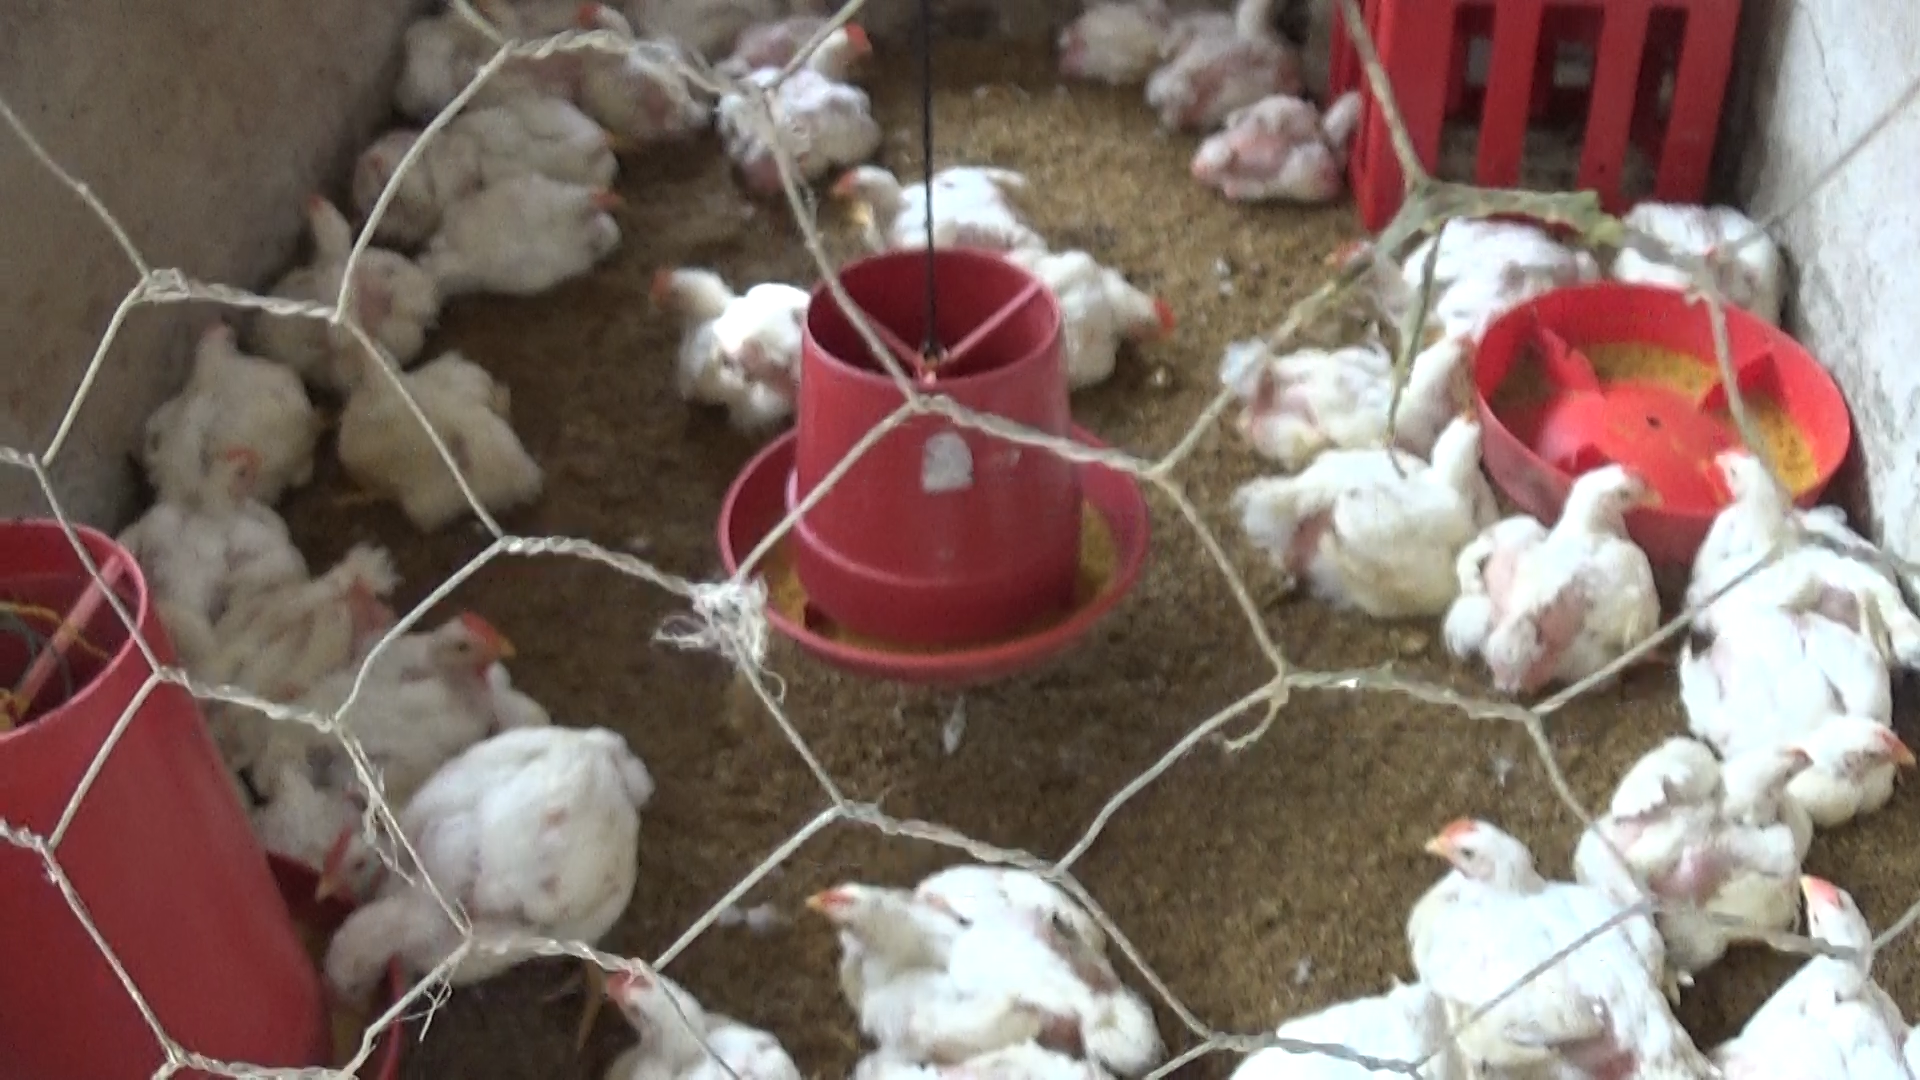Pollos: (315, 712, 675, 1004), (779, 848, 1166, 1058), (1375, 807, 1651, 1080), (1691, 567, 1913, 828), (258, 611, 539, 812), (1431, 462, 1673, 688), (1257, 413, 1516, 615), (1610, 712, 1811, 972), (1695, 422, 1920, 649), (334, 316, 539, 538), (1721, 862, 1920, 1080), (229, 187, 431, 382), (571, 938, 840, 1080), (109, 422, 305, 615), (702, 15, 884, 204), (825, 152, 1067, 286), (141, 314, 316, 495), (630, 258, 820, 422), (410, 169, 640, 295), (1222, 327, 1477, 440), (997, 225, 1187, 368), (1120, 0, 1320, 123), (1196, 87, 1393, 203), (462, 69, 625, 194), (576, 7, 707, 123), (1022, 0, 1151, 94), (357, 98, 448, 204)
